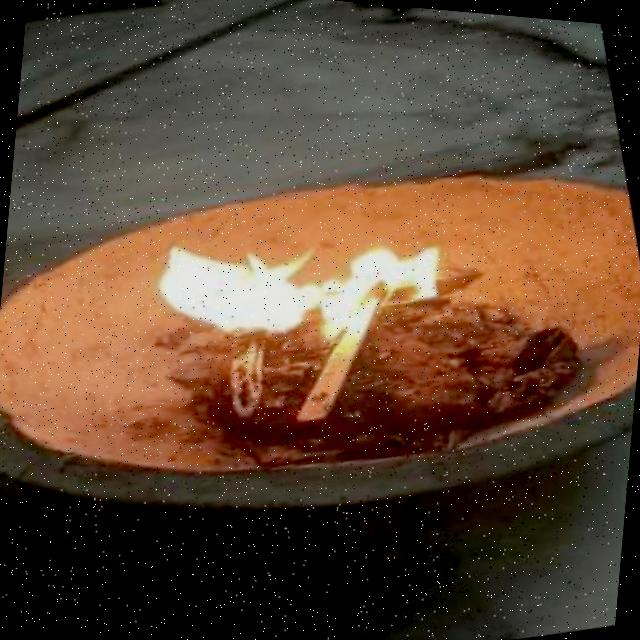fire: (89, 147, 467, 393)
